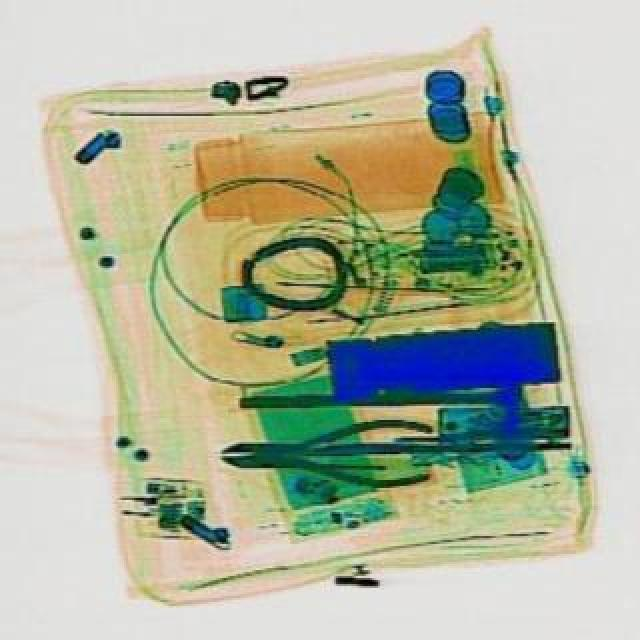wrench: (214, 416, 428, 484)
